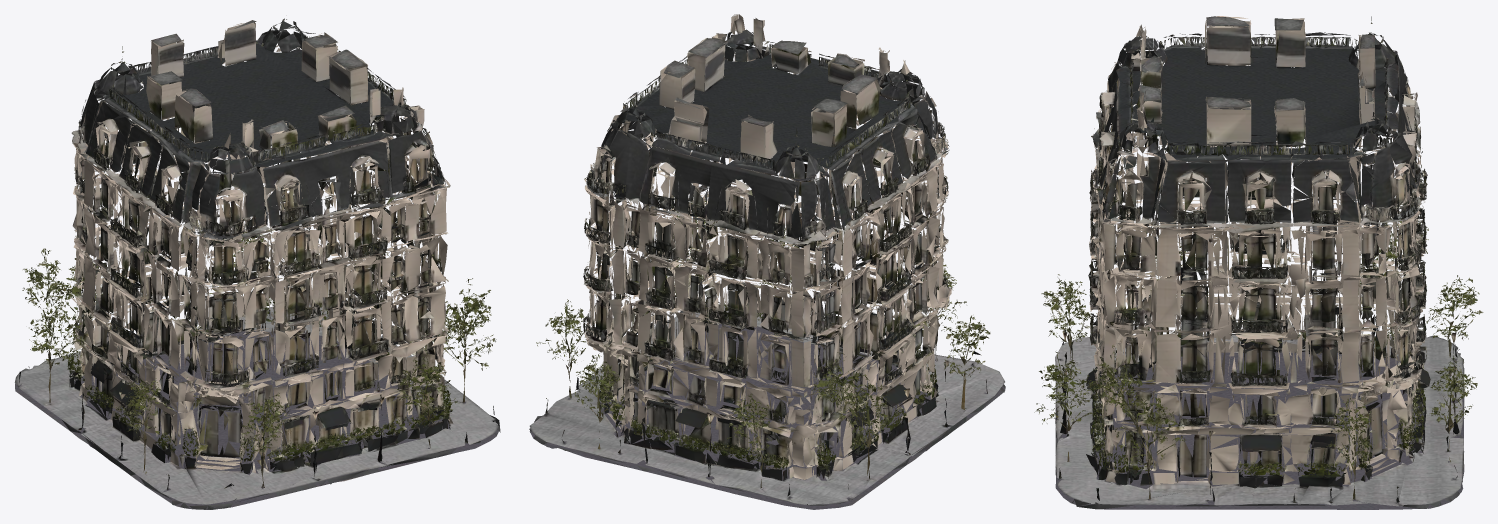
File: hotel5-paris.glb
The picture shows the model from 3 angles, left to right: view 1: azimuth 30°, elevation 25°; view 2: azimuth 150°, elevation 25°; view 3: azimuth 270°, elevation 25°; orthographic projection. The views are drawn at different scales.
Parts seen in each view (by area): view 1: Mesh_0; view 2: Mesh_0; view 3: Mesh_0.
Part boxes in pixels (x1,y1,x2,y2): Mesh_0: (14,18,500,509); Mesh_0: (529,14,1005,509); Mesh_0: (1034,16,1483,509).
Size of the model in its own units: 1.85 by 1.69 by 1.87.
Materials: 1 (1 with a texture image).
